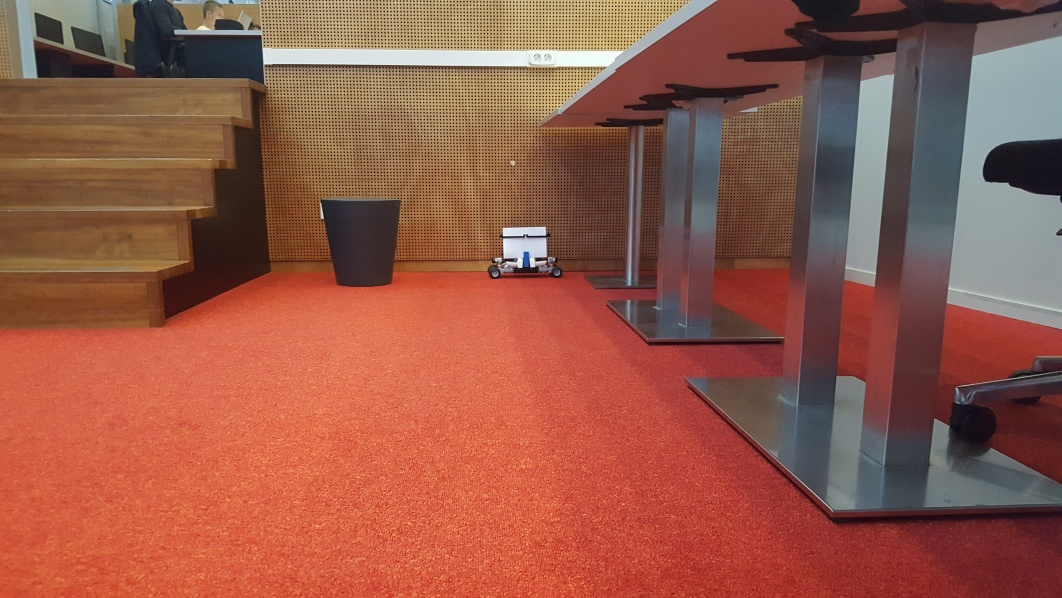car: (486, 224, 565, 280)
